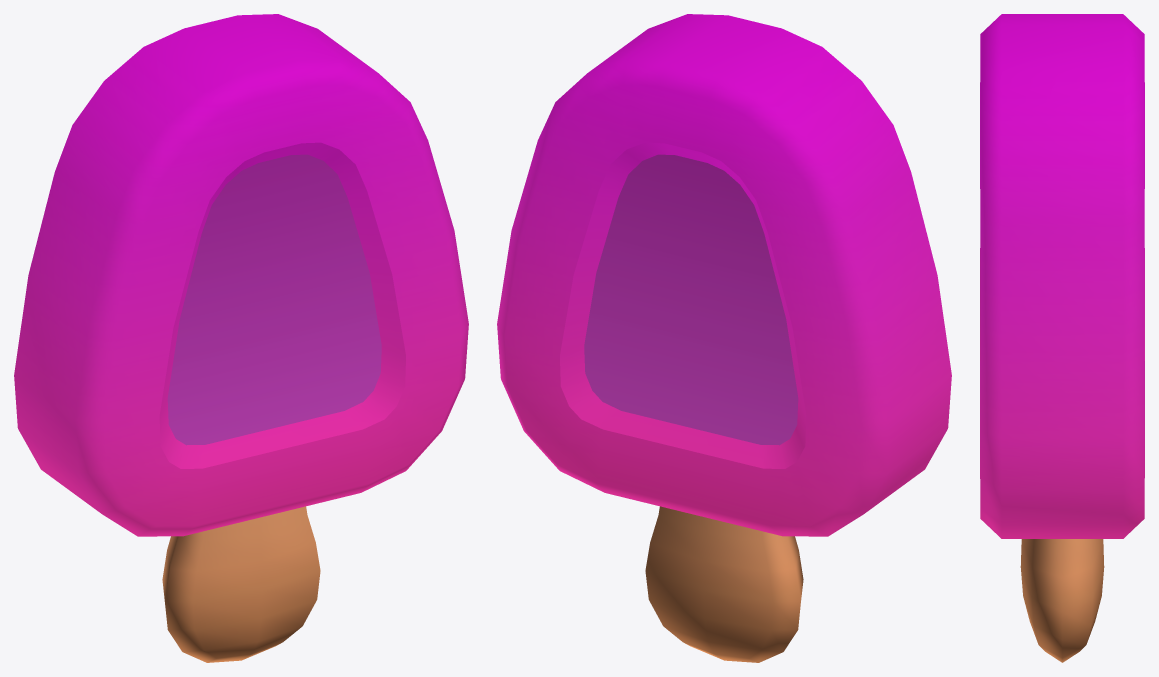
File: IceCream_05.glb
3 renders of one model, left to right at view 1: azimuth 30°, elevation 25°; view 2: azimuth 150°, elevation 25°; view 3: azimuth 270°, elevation 25°, orthographic.
Visible parts, largest first — view 1: IceCream_05; view 2: IceCream_05; view 3: IceCream_05.
Part boxes in pixels (bbox=[...]): IceCream_05: bbox=[14, 14, 468, 662]; IceCream_05: bbox=[497, 14, 951, 662]; IceCream_05: bbox=[980, 14, 1144, 662].
Bounding box in the file's own units: 0.794 × 1.19 × 0.2892.
Materials: 2 (2 with a texture image).
